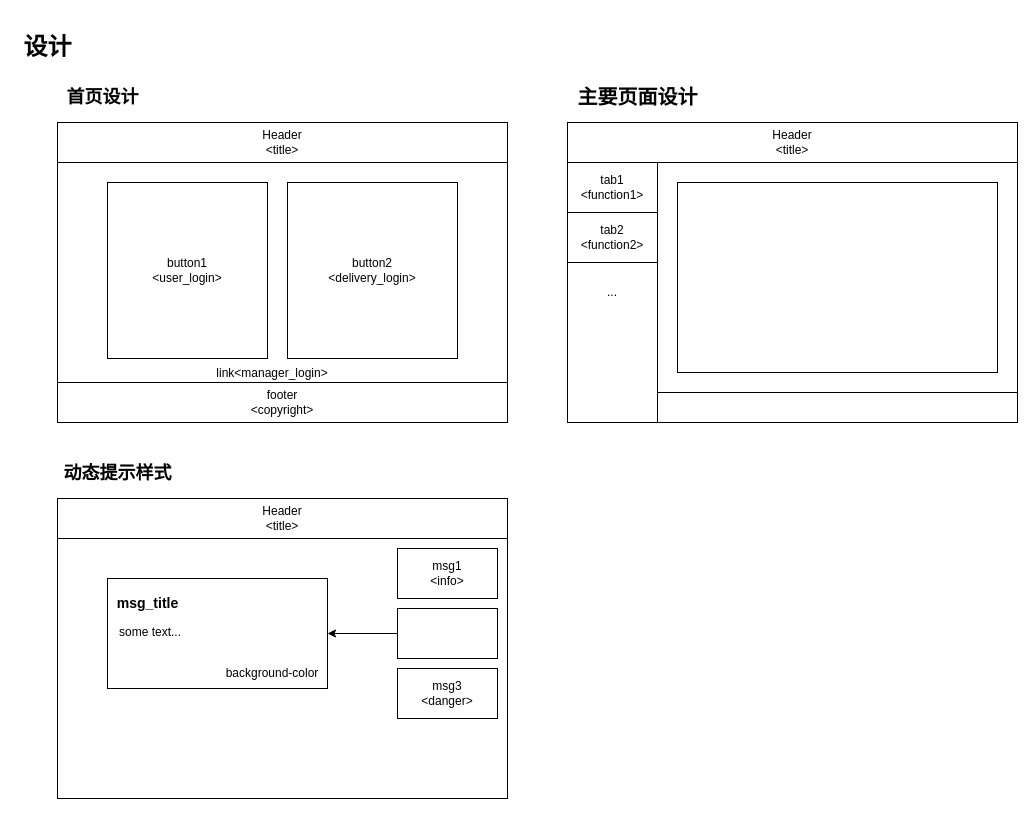
Image size: 1035x816. Some labels were removed from this diagram. Each missing label, with the centre of its shape:
"container <main>" goes at point 837,277.
"footer <tips>" goes at point 837,407.
"msg2 <warning>" goes at point 447,633.
